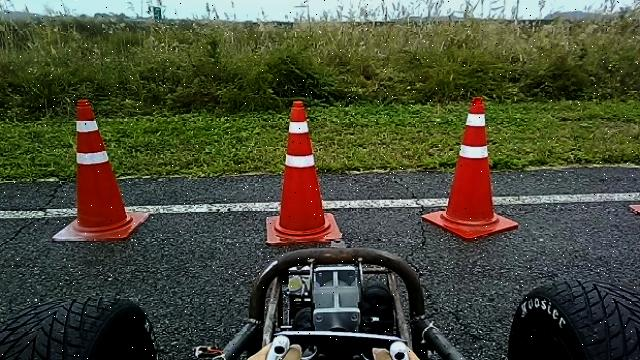red cone: (420, 96, 519, 240), (50, 97, 148, 242), (264, 99, 343, 245)
